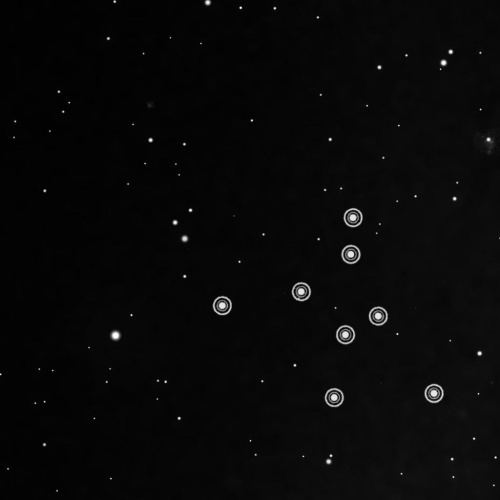hercules: (206, 200, 449, 418)
